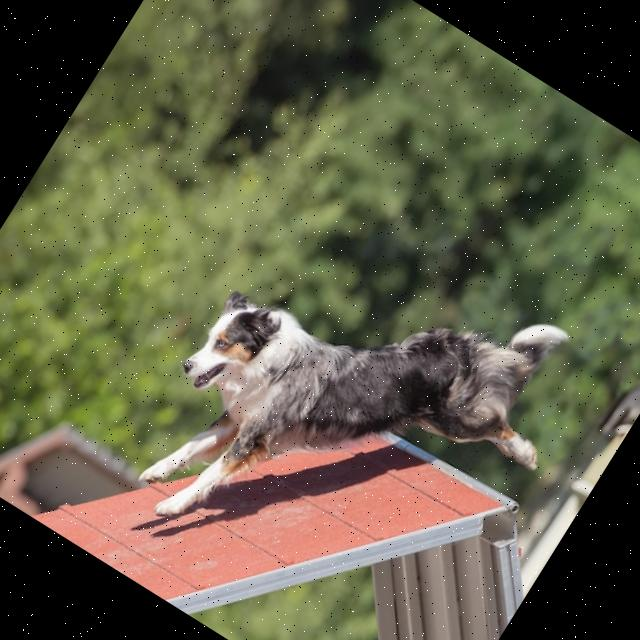Dog: (108, 169, 603, 640)
